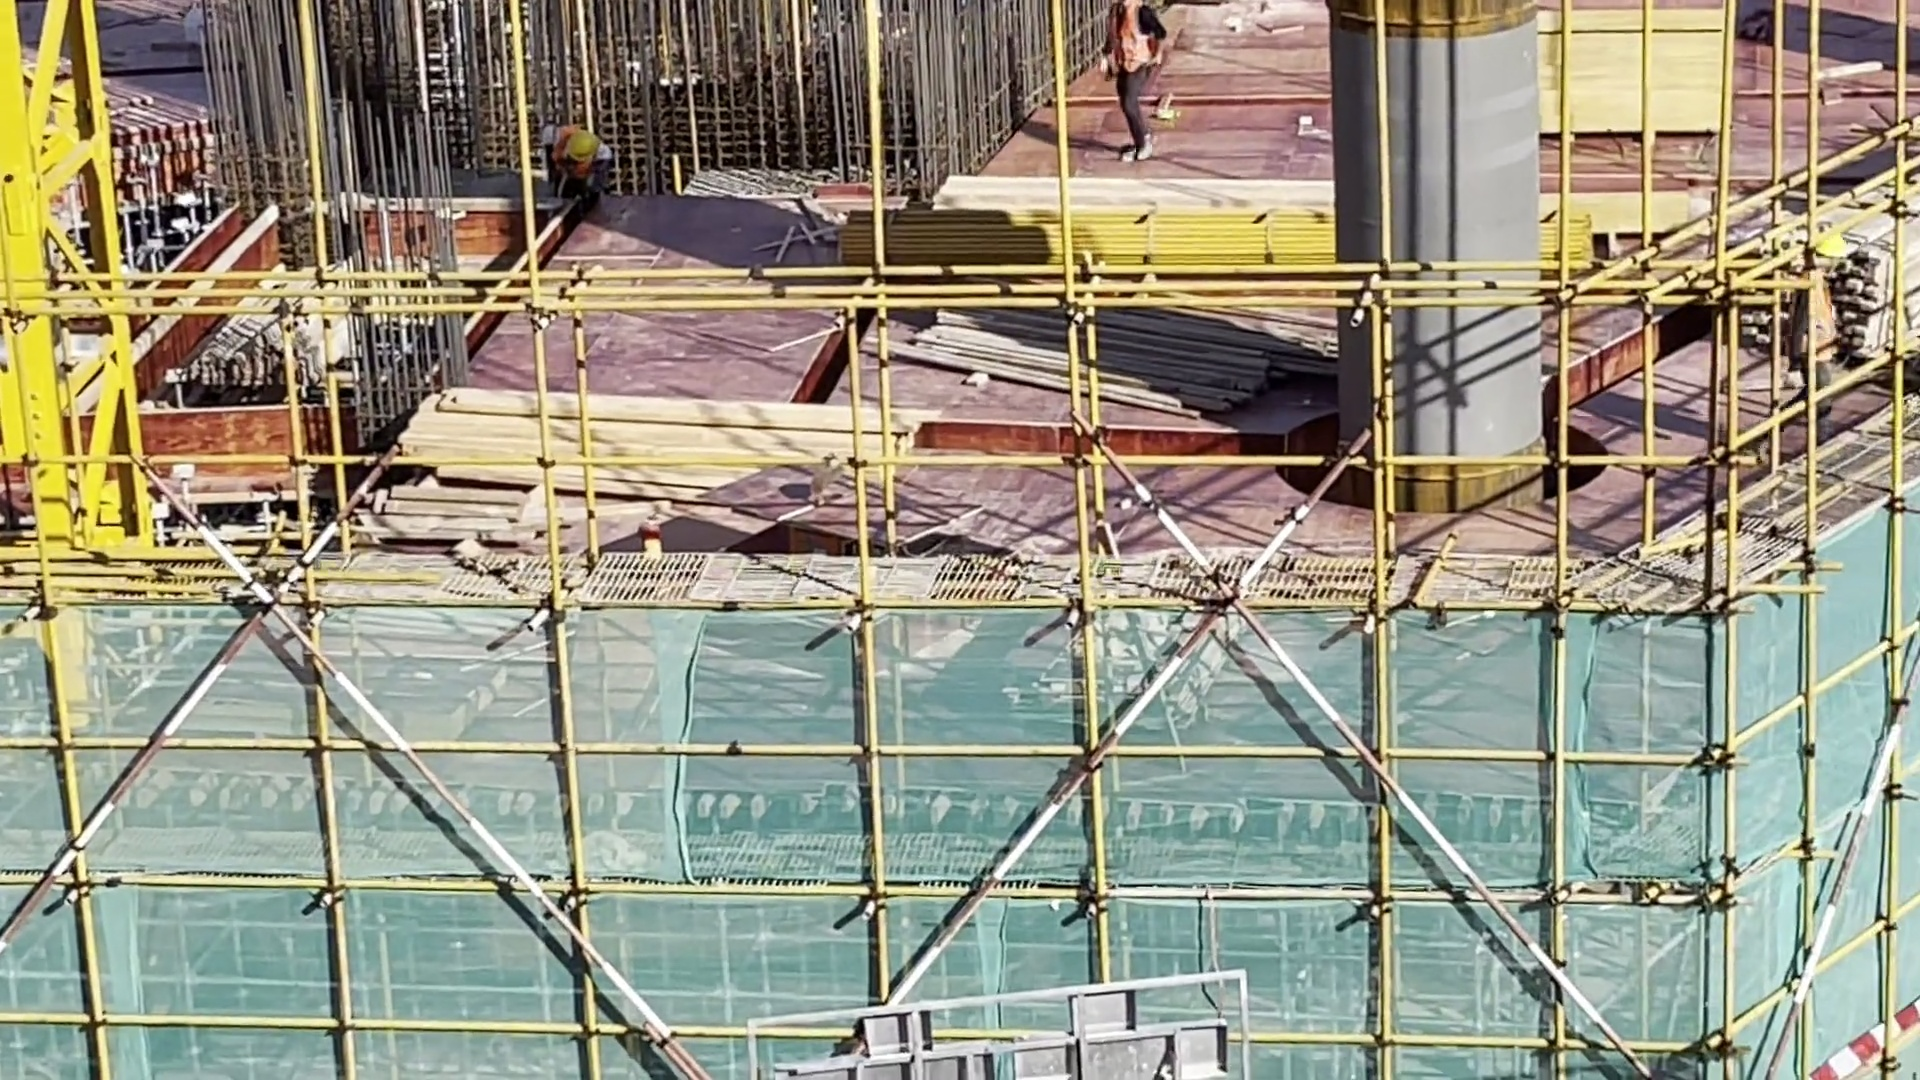board: (1492, 1, 1744, 161)
helmet: (562, 124, 601, 170)
person: (1101, 1, 1178, 177), (541, 116, 623, 213)
vest: (1107, 1, 1169, 86), (541, 127, 598, 186)
wood: (405, 384, 911, 495), (1748, 224, 1909, 362)
